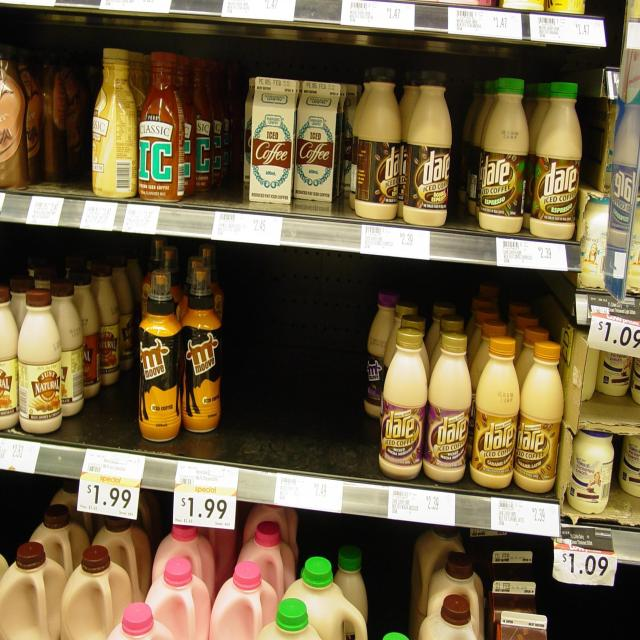empty_space: (236, 271, 357, 457), (58, 53, 90, 185), (222, 67, 242, 185)
